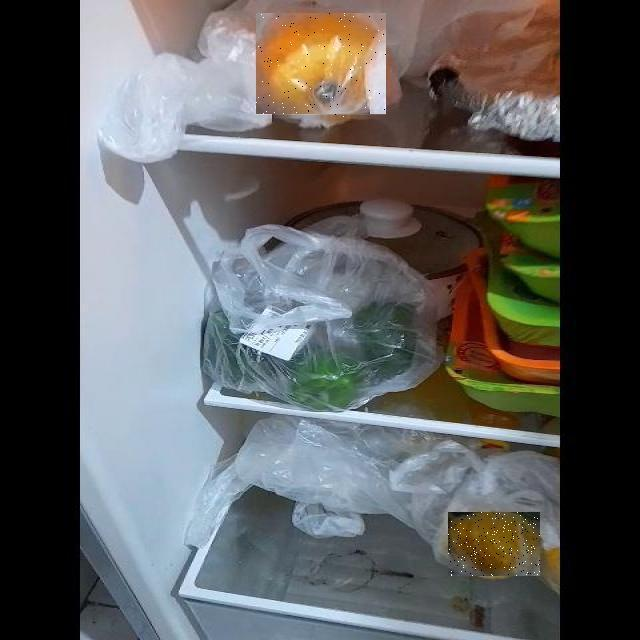Lemon: (256, 14, 386, 118), (448, 512, 540, 576)
